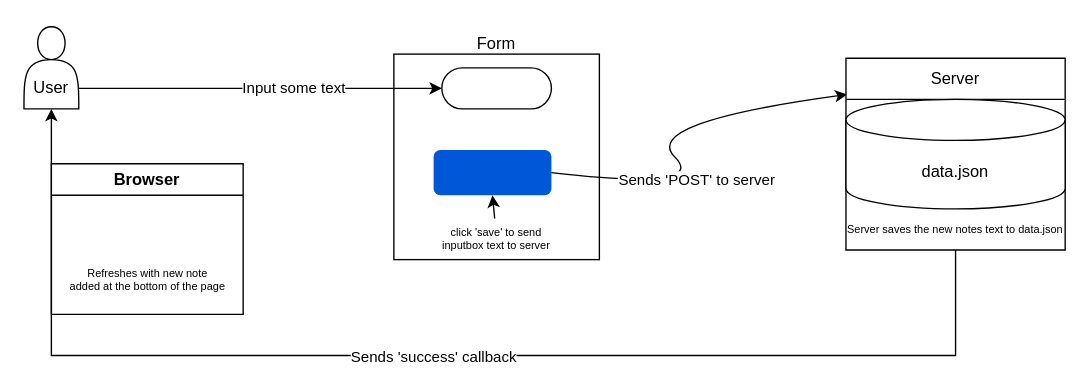
Image size: 1089x390. Some labels were removed from this diagram. The shapes that lost their labels are listed below. From the top down, each one's centre as x and y in pixels, then its label:
At pixel 495 87: "inputbox".
At pixel 492 172: "Save".
